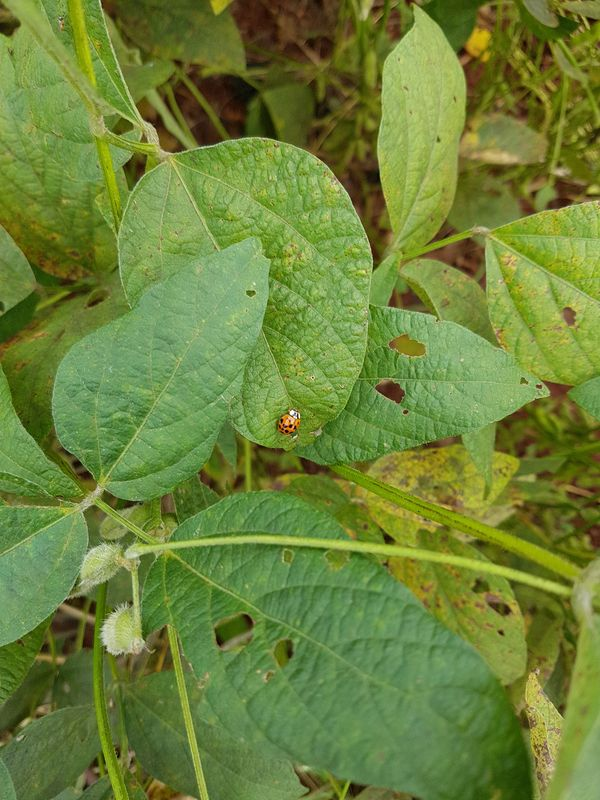Coccinellidae: (269, 402, 310, 444)
